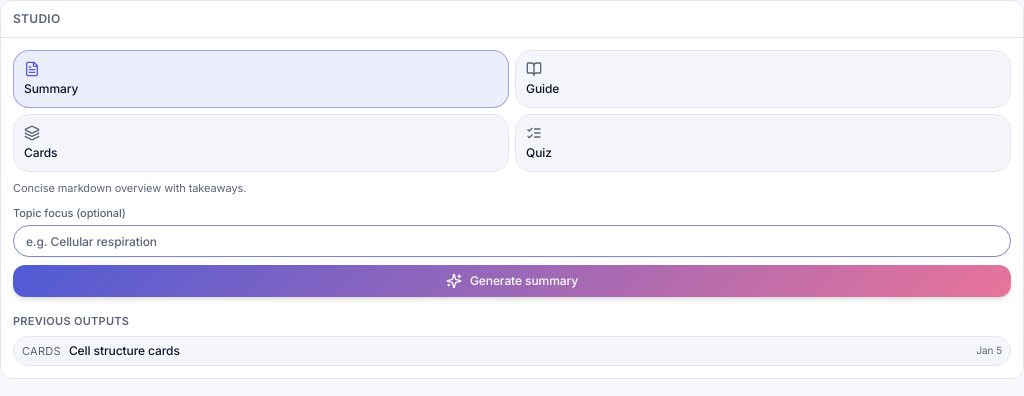
Test: opening a flashcards output › says so plainly when this is the only generation
Step 1. Click the button "Cards Cell structure cards Jan 5" → point(41, 350), box 13,336 -> 1011,366
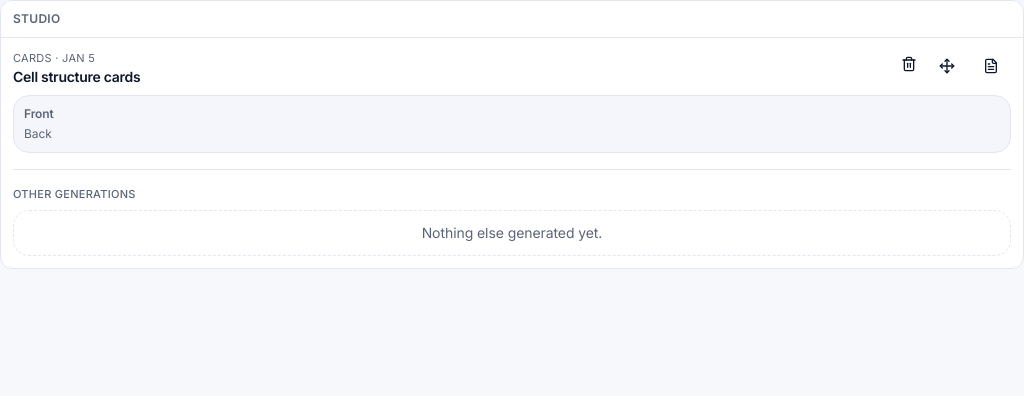
expect the heading "Other generations" is shown: met, box 13,186 -> 136,200
expect the text "Nothing else generated yet." is shown: met, box 13,210 -> 1011,256
